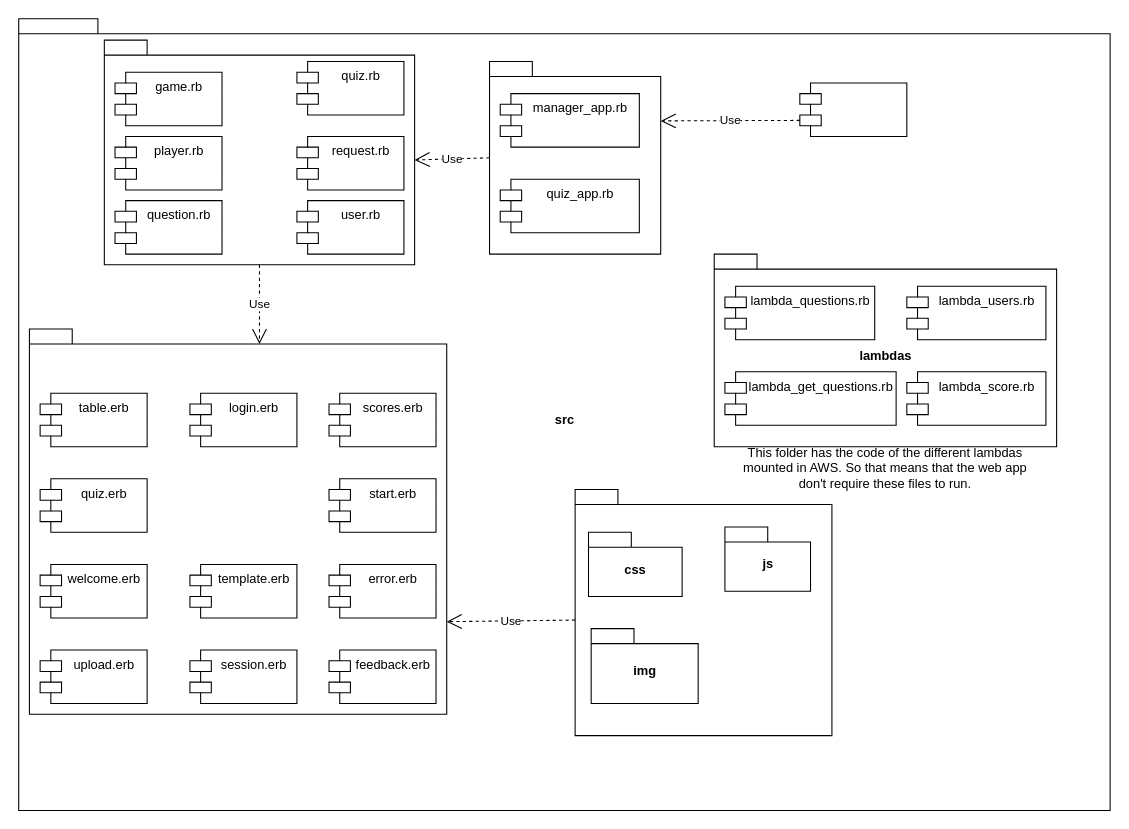
Image size: 1129x829. Some labels were removed from this diagram. The box of each missing label's shape, as (x1, y1, x2, y2) in pixels:
app_router.rb: (799, 82, 907, 136)
controllers: (488, 60, 661, 254)
models: (103, 39, 415, 265)
public: (574, 488, 832, 736)
views: (28, 328, 447, 714)
